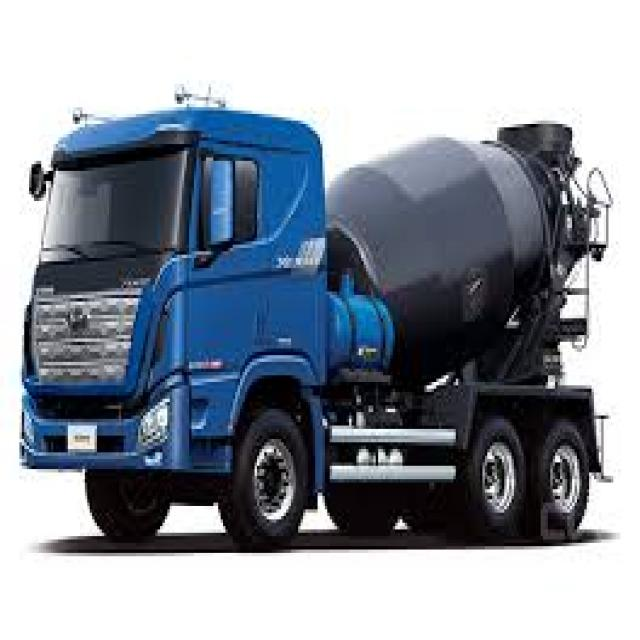Mixer Truck: (18, 80, 616, 548)
